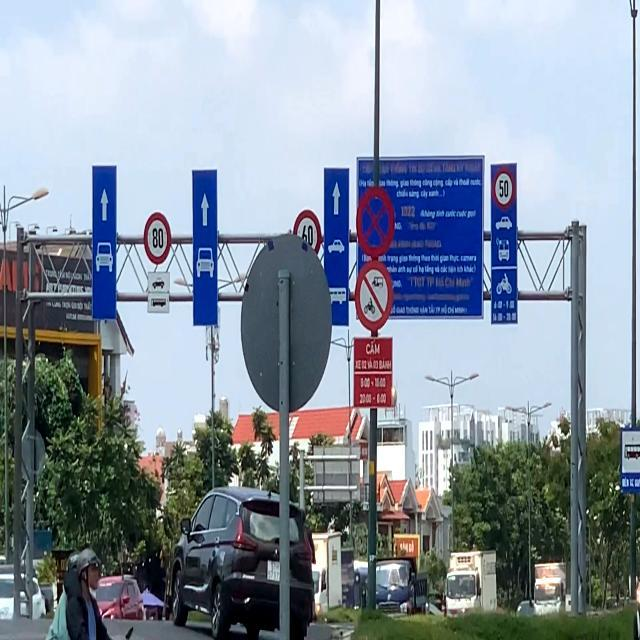P-104: (355, 261, 393, 330)
P-130: (358, 184, 392, 255)
